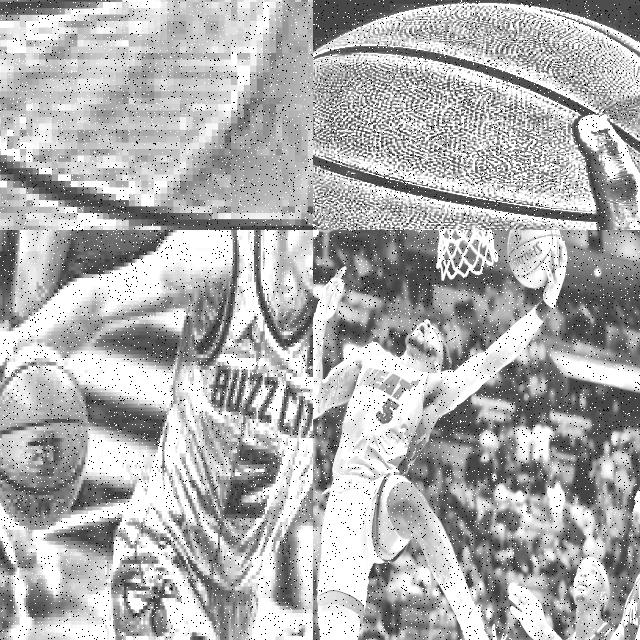Basketball: (313, 1, 640, 230), (0, 0, 313, 230), (0, 347, 88, 528), (508, 230, 561, 287)
